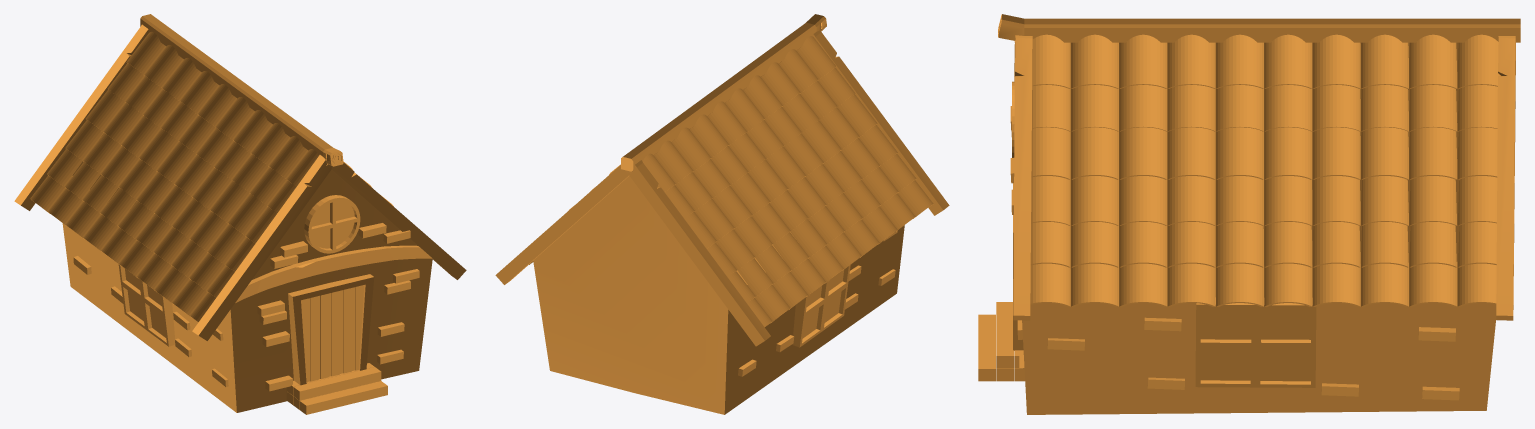
3 renders of one model, left to right at view 1: azimuth 30°, elevation 25°; view 2: azimuth 150°, elevation 25°; view 3: azimuth 270°, elevation 25°, orthographic. The views are drawn at different scales.
Parts seen in each view (by area): view 1: House_1; view 2: House_1; view 3: House_1.
Boxes of the visible parts, x1=… form: House_1: x1=14, y1=14, x2=466, y2=414; House_1: x1=495, y1=14, x2=949, y2=414; House_1: x1=978, y1=14, x2=1520, y2=414.
Size of the model in its own units: 405 by 358 by 521.
